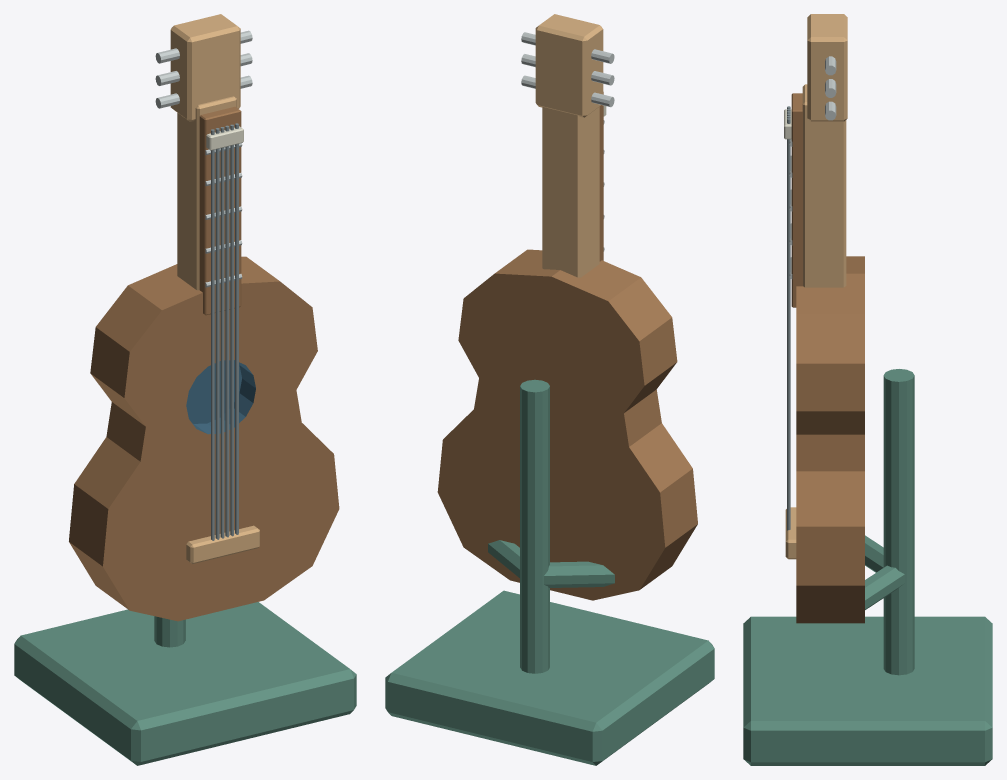
The picture shows the model from 3 angles, left to right: view 1: azimuth 30°, elevation 25°; view 2: azimuth 150°, elevation 25°; view 3: azimuth 270°, elevation 25°; orthographic projection. The views are drawn at different scales.
Visible parts, largest first — view 1: music-acoustic-guitar-01; view 2: music-acoustic-guitar-01; view 3: music-acoustic-guitar-01.
Part boxes in pixels (<box>): music-acoustic-guitar-01: <box>14,14,356,765</box>; music-acoustic-guitar-01: <box>385,14,714,765</box>; music-acoustic-guitar-01: <box>743,14,992,765</box>.
Bounding box in the file's own units: 0.44 × 1.22 × 0.4.
